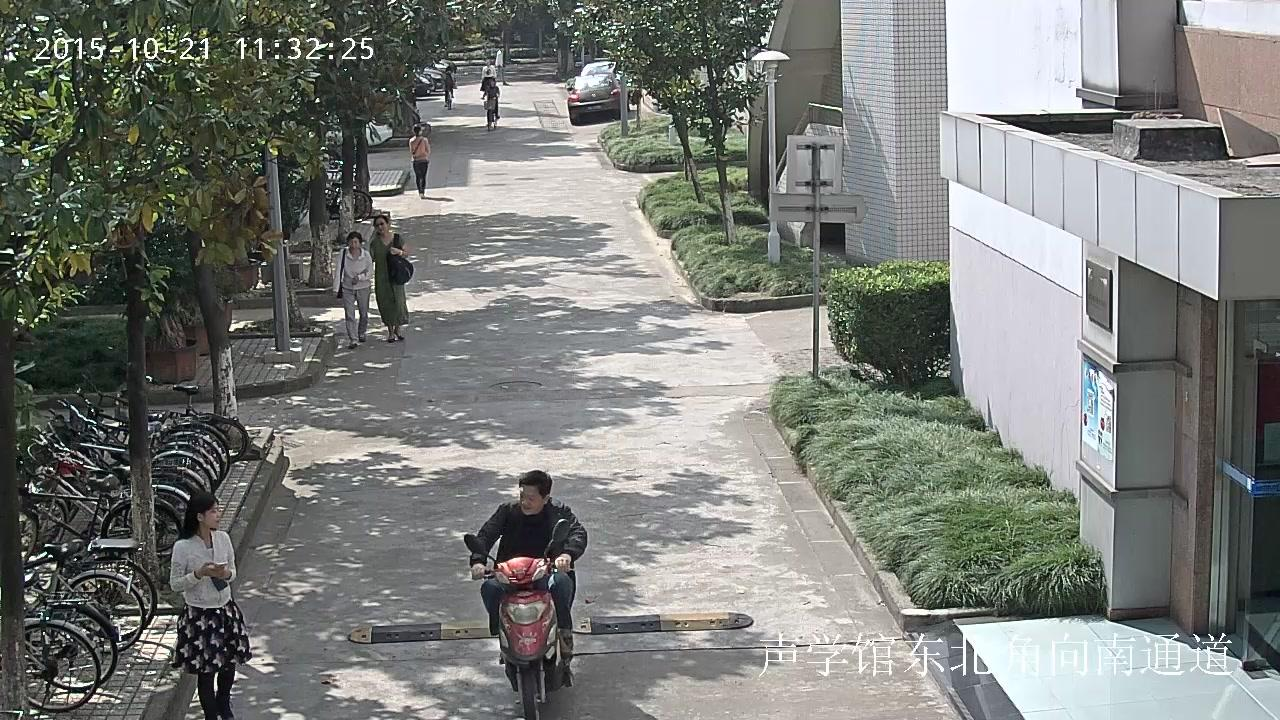face: (518, 484, 544, 514), (204, 501, 221, 527), (375, 218, 387, 233), (347, 236, 359, 250), (489, 79, 495, 88), (485, 59, 489, 65)
